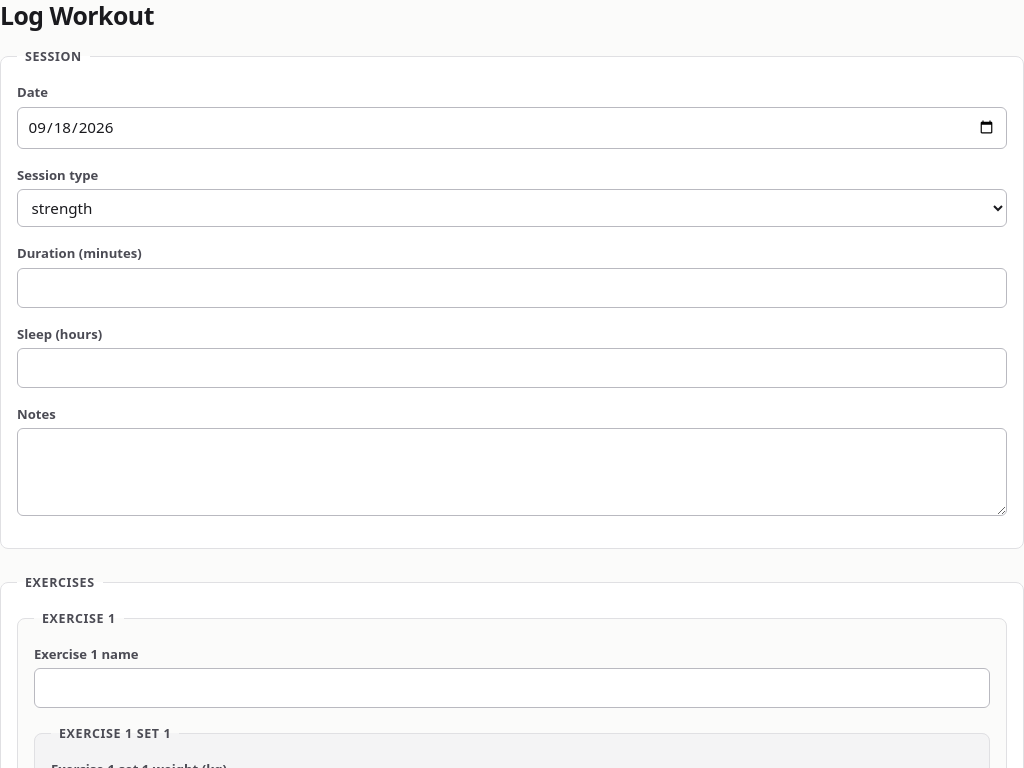
WorkoutEditorScreen › rejects non-integer reps
Type "Squat" into the field labelled "Exercise 1 name" at (512, 688), box [34,668,990,708]
(page scrolled)
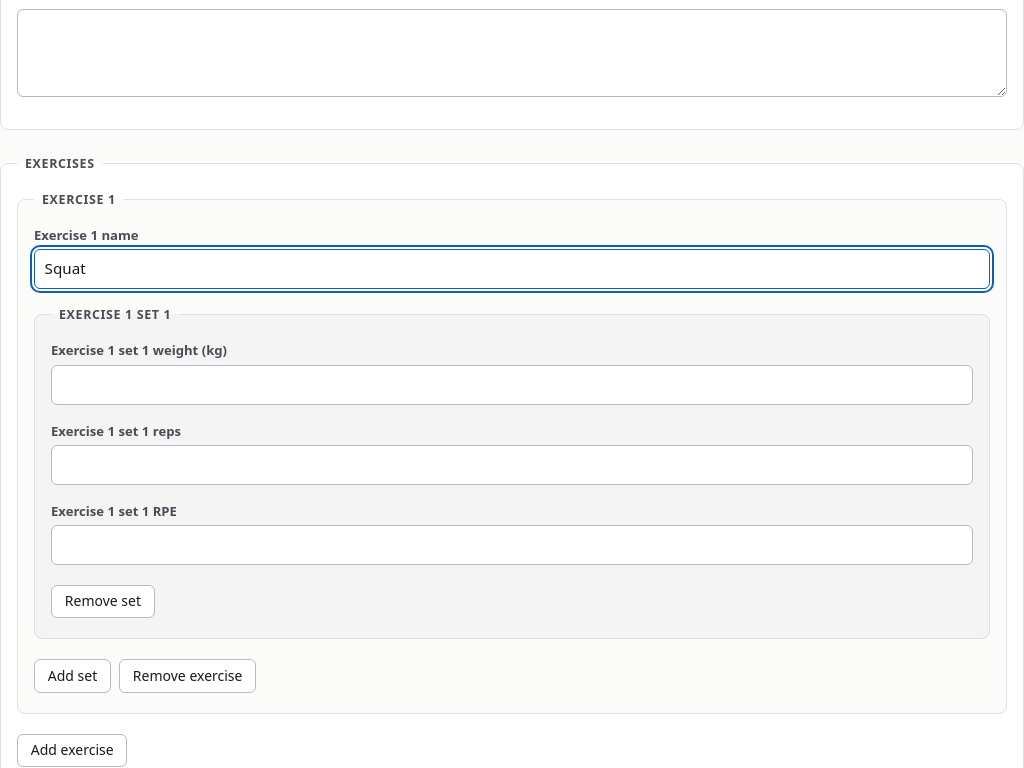
Type "100" into the number field labelled "Exercise 1 set 1 weight (kg)" at (512, 385), box [51,365,973,405]
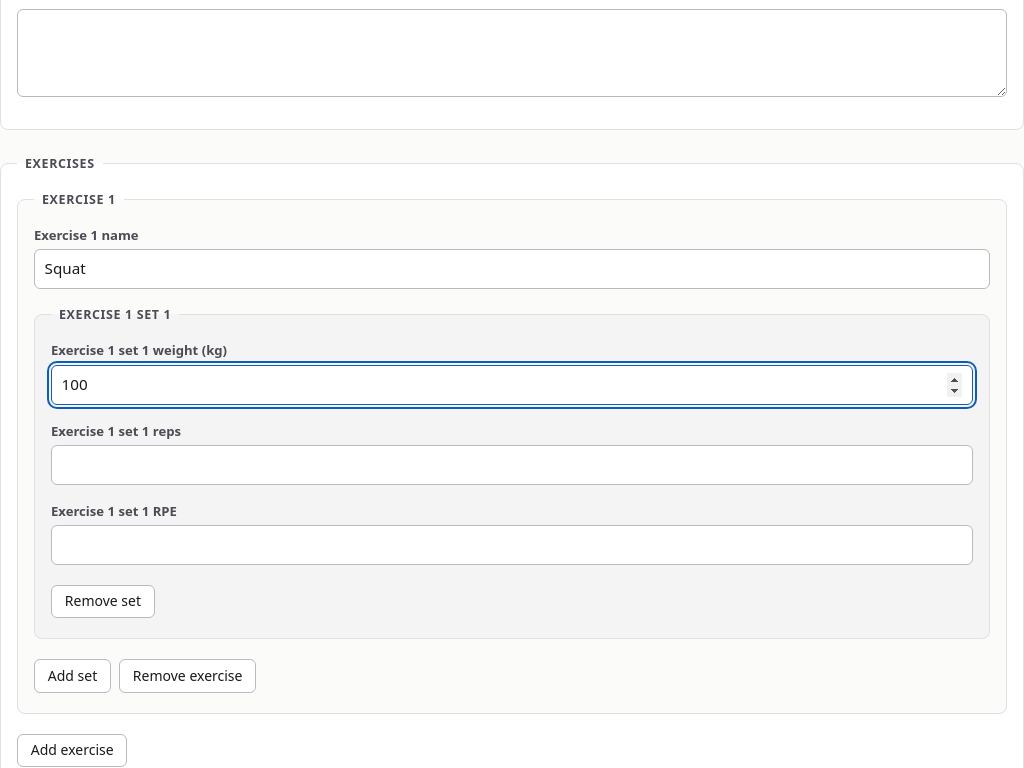
Type "5" into the number field labelled "Exercise 1 set 1 reps" at (512, 465), box [51,445,973,485]
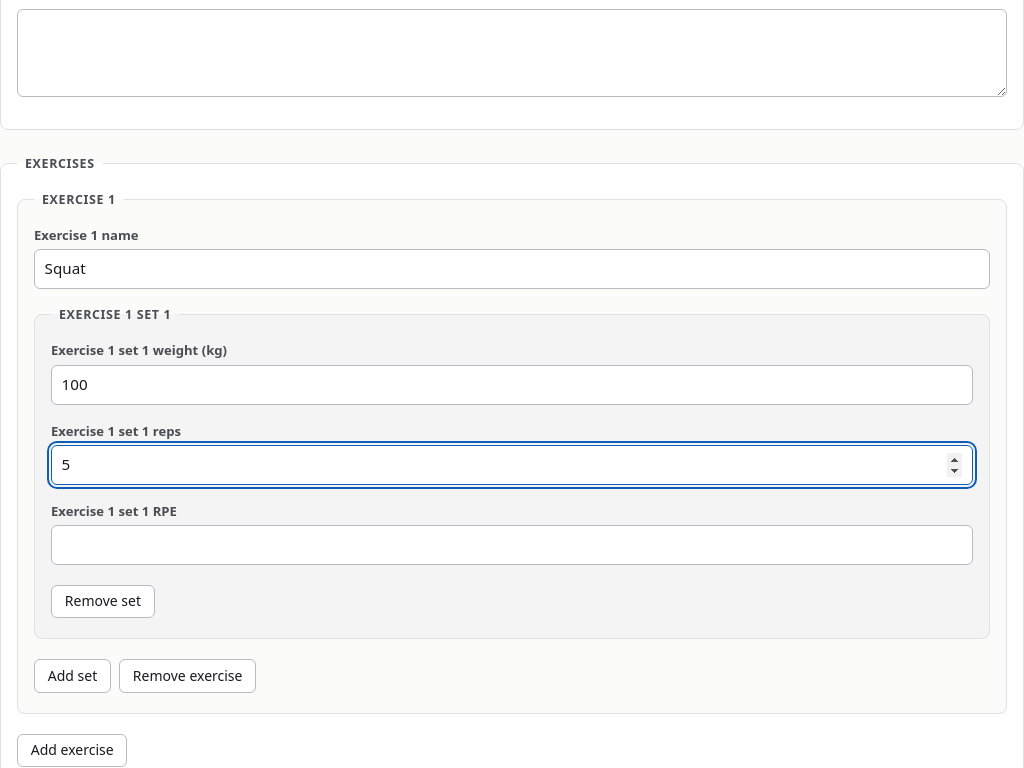
Type "8" into the number field labelled "Exercise 1 set 1 RPE" at (512, 545), box [51,525,973,565]
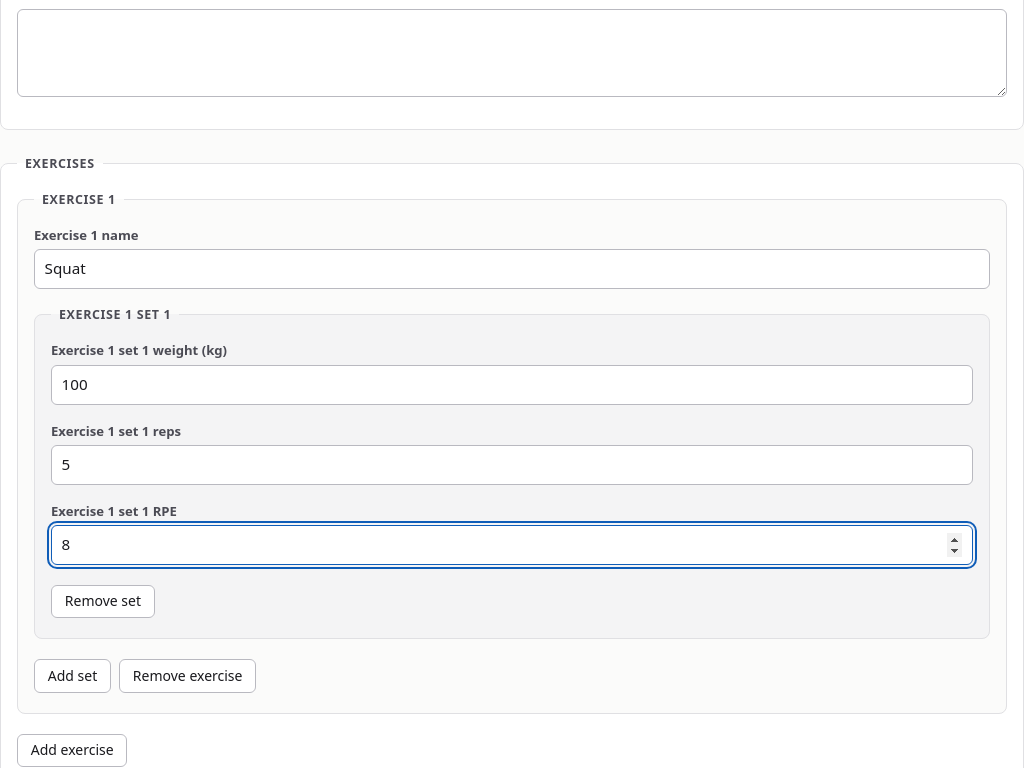
Replace the text in the number field labelled "Exercise 1 set 1 reps" with "2.5" at (512, 465), box [51,445,973,485]
(page scrolled)
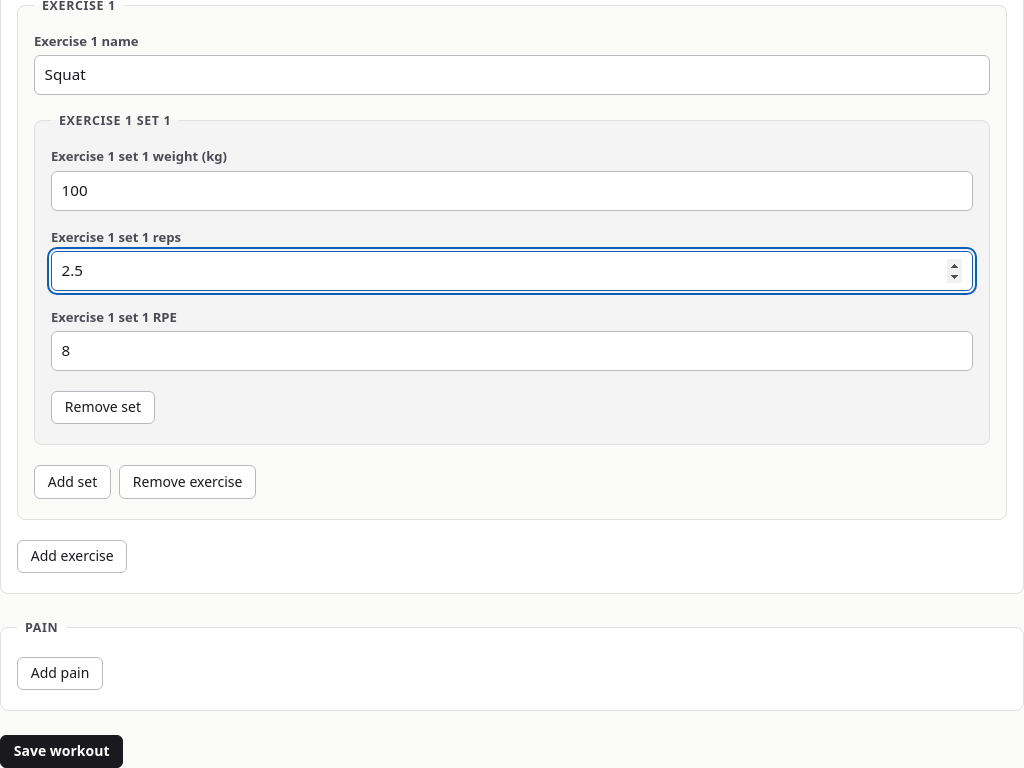
Click the button "Save workout" at (62, 752), box [0,735,123,767]
(page scrolled)
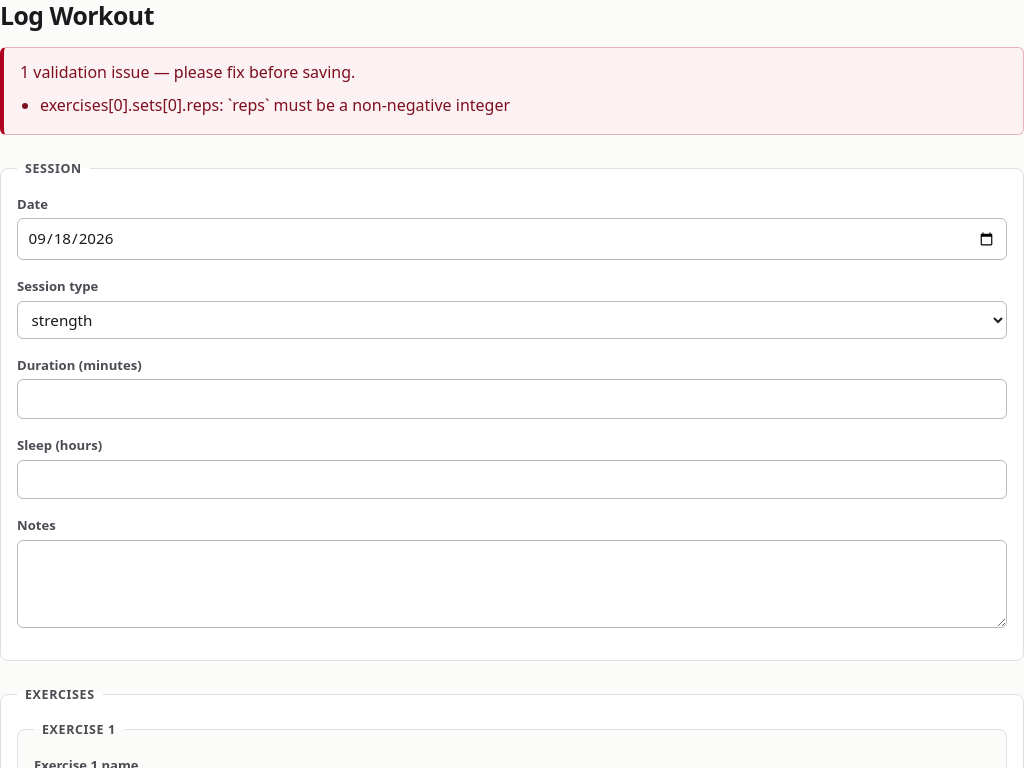
Check: the message shows "reps", box [228,94,510,116]
